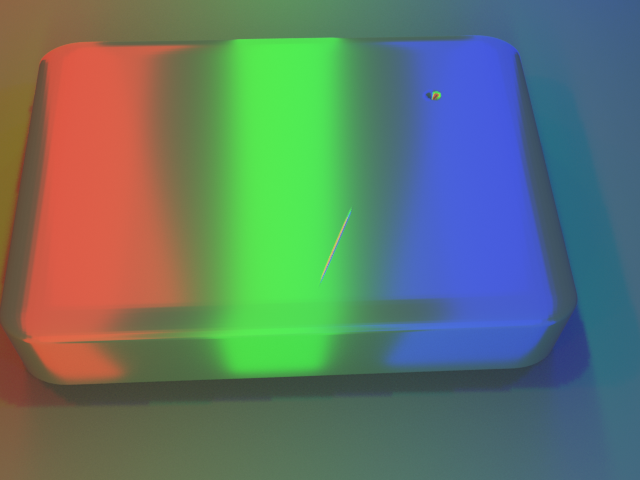dent: (424, 64, 464, 100)
scratch: (169, 152, 503, 325)
